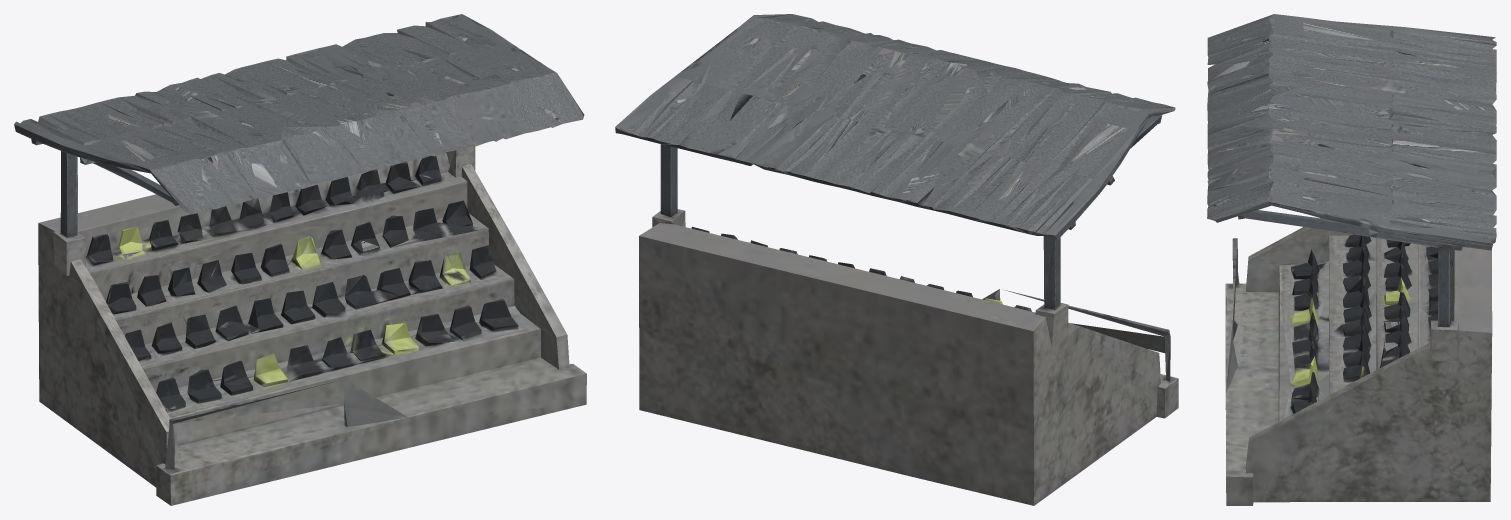
The model's file is stand.glb.
The picture shows the model from 3 angles, left to right: view 1: azimuth 30°, elevation 25°; view 2: azimuth 150°, elevation 25°; view 3: azimuth 270°, elevation 25°; orthographic projection. The views are drawn at different scales.
Parts seen in each view (by area): view 1: Mesh_0; view 2: Mesh_0; view 3: Mesh_0.
Boxes of the visible parts, x1,y1,x2,y2 form: Mesh_0: (14, 14, 586, 505); Mesh_0: (615, 14, 1178, 505); Mesh_0: (1207, 14, 1496, 505).
Size of the model in its own units: 1.88 by 1.27 by 1.11.
1 material, 1 textured.
